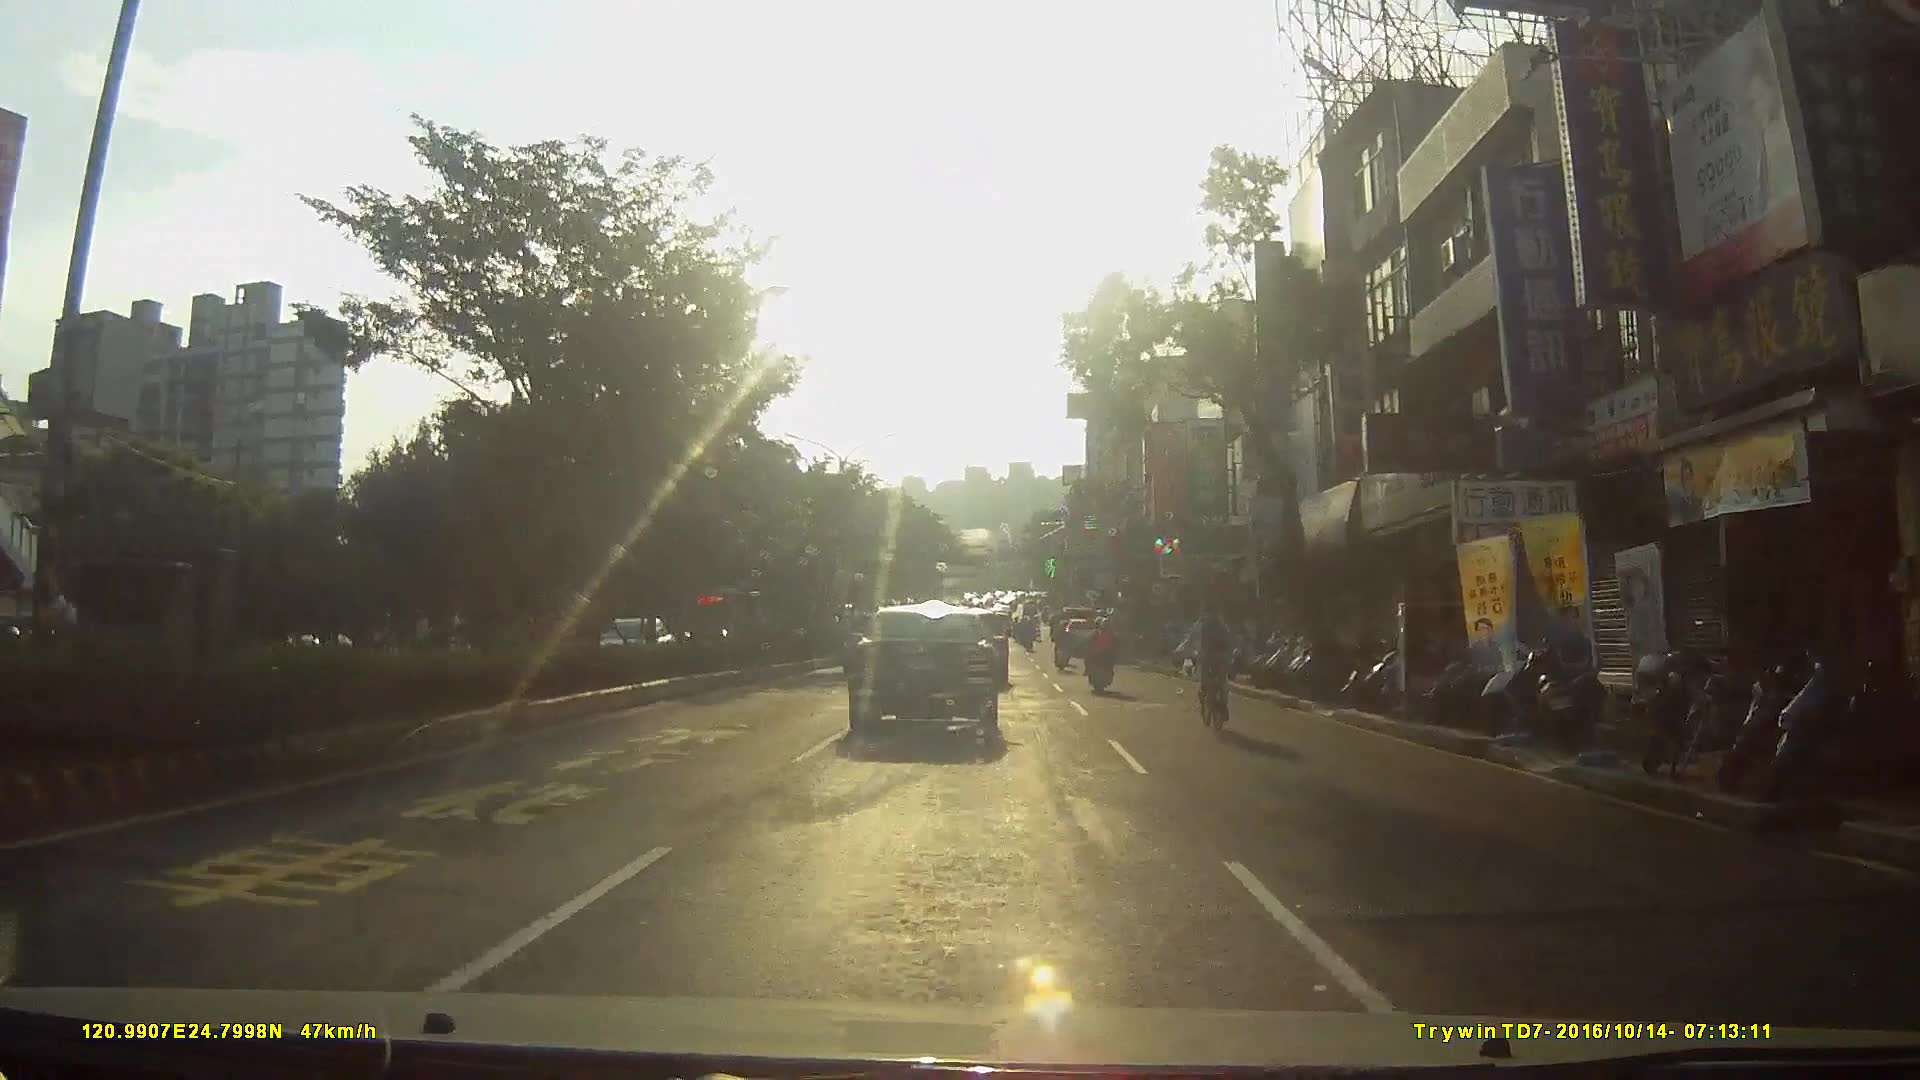rider: (1186, 592, 1249, 734), (1084, 612, 1117, 688), (1051, 615, 1073, 672)
vehicle: (846, 606, 1012, 753)
